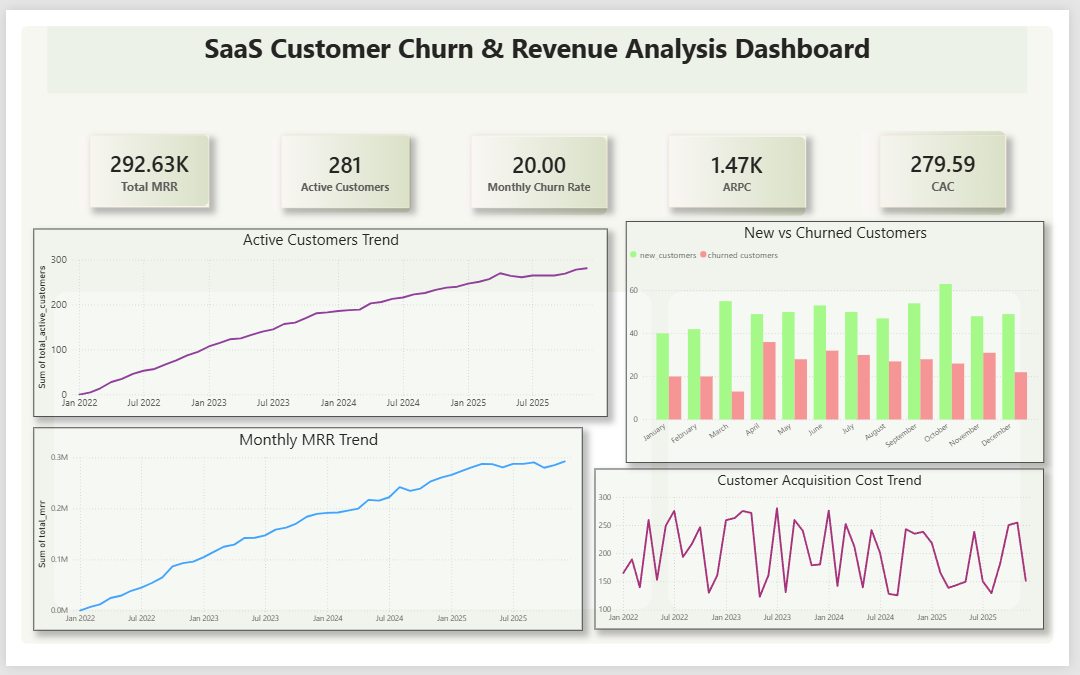

The dashboard page shown, as its layout file describes it:
{"tool":"powerbi","page":{"name":"Page 1","canvas":[1700,1049],"ordinal":0},"visuals":[{"type":"cardVisual","fields":{"Data":["monthly_revenue.Total_customer"]},"box":[133,200.5,191.4,116],"z":0},{"type":"cardVisual","fields":{"Data":["monthly_revenue.Active Customers"]},"box":[439.2,200.5,205.9,116.6],"z":1000},{"type":"cardVisual","fields":{"Data":["monthly_revenue.Churned rate"]},"box":[741.8,200.4,218,116],"z":2000},{"type":"cardVisual","fields":{"Data":["monthly_revenue.Avg Revenue"]},"box":[1059.9,200.4,219.7,116],"z":3000},{"type":"cardVisual","fields":{"Data":["monthly_revenue.CAC"]},"box":[1397.4,200.4,202.1,116],"z":4000},{"type":"lineChart","title":"Monthly MRR Trend","fields":{"Y":["Sum(monthly_revenue.total_mrr)"],"Category":["monthly_revenue.month.Variation.Date Hierarchy.Year","monthly_revenue.month.Variation.Date Hierarchy.Quarter","monthly_revenue.month.Variation.Date Hierarchy.Month","monthly_revenue.month.Variation.Date Hierarchy.Day"]},"box":[43.7,667,878.4,324.4],"z":5000},{"type":"lineChart","title":"Active Customers Trend","fields":{"Y":["Sum(monthly_revenue.total_active_customers)"],"Category":["monthly_revenue.month.Variation.Date Hierarchy.Year","monthly_revenue.month.Variation.Date Hierarchy.Quarter","monthly_revenue.month.Variation.Date Hierarchy.Month","monthly_revenue.month.Variation.Date Hierarchy.Day"]},"box":[43.7,349.9,918.5,300.7],"z":6000},{"type":"clusteredColumnChart","title":"New vs Churned Customers","fields":{"Y":["Sum(monthly_revenue.new_customers)","Sum(monthly_revenue.churned_customers)"],"Category":["monthly_revenue.month.Variation.Date Hierarchy.Month"]},"box":[991.4,337.2,668.8,386.4],"z":7000},{"type":"lineChart","title":"Customer Acquisition Cost Trend","fields":{"Y":["Sum(monthly_revenue.customer_acquisition_cost)"],"Category":["monthly_revenue.month.Variation.Date Hierarchy.Year","monthly_revenue.month.Variation.Date Hierarchy.Quarter","monthly_revenue.month.Variation.Date Hierarchy.Month","monthly_revenue.month.Variation.Date Hierarchy.Day"]},"box":[942.2,734.5,718.1,257],"z":8000},{"type":"textbox","box":[66.8,26.4,1567.9,107.2],"z":9000}]}

Visuals, with their boxes in screenshot pixels (x1, y1, x2, y2), scaled from the page's 1700x1049 canvas onto the 1080x675 screenshot:
cardVisual - monthly_revenue.Total_customer: {"left": 84, "top": 129, "right": 206, "bottom": 204}
cardVisual - monthly_revenue.Active Customers: {"left": 279, "top": 129, "right": 410, "bottom": 204}
cardVisual - monthly_revenue.Churned rate: {"left": 471, "top": 129, "right": 610, "bottom": 204}
cardVisual - monthly_revenue.Avg Revenue: {"left": 673, "top": 129, "right": 813, "bottom": 204}
cardVisual - monthly_revenue.CAC: {"left": 888, "top": 129, "right": 1016, "bottom": 204}
"Monthly MRR Trend" lineChart: {"left": 28, "top": 429, "right": 586, "bottom": 638}
"Active Customers Trend" lineChart: {"left": 28, "top": 225, "right": 611, "bottom": 419}
"New vs Churned Customers" clusteredColumnChart: {"left": 630, "top": 217, "right": 1055, "bottom": 466}
"Customer Acquisition Cost Trend" lineChart: {"left": 599, "top": 473, "right": 1055, "bottom": 638}
textbox: {"left": 42, "top": 17, "right": 1039, "bottom": 86}
